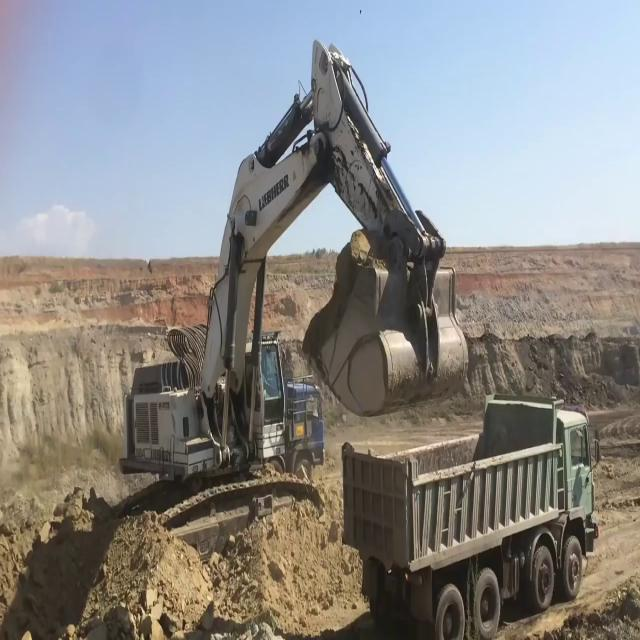excavator: (112, 43, 475, 504)
